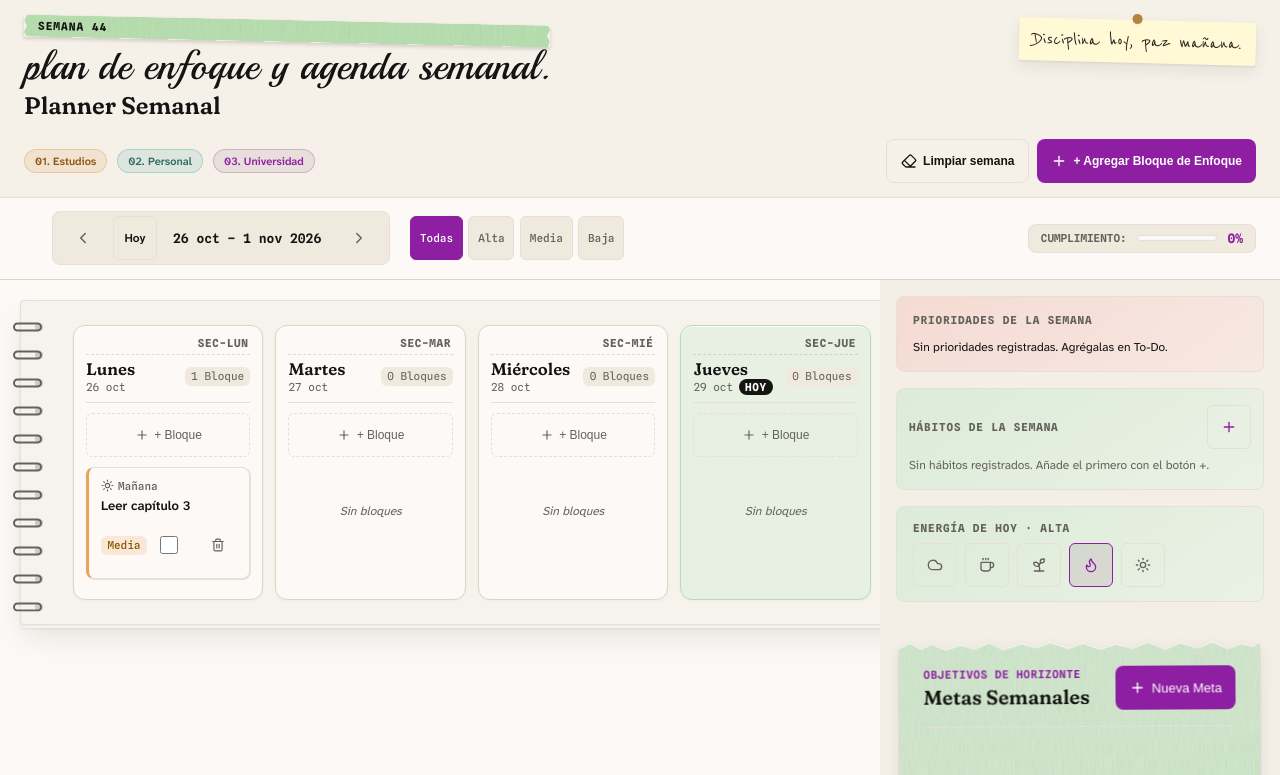
PlannerView integración semanal y metas › Limpiar semana › borra los bloques de la semana tras confirmar
Click the button "Limpiar semana" at point(958, 161), box [886,139,1029,183]
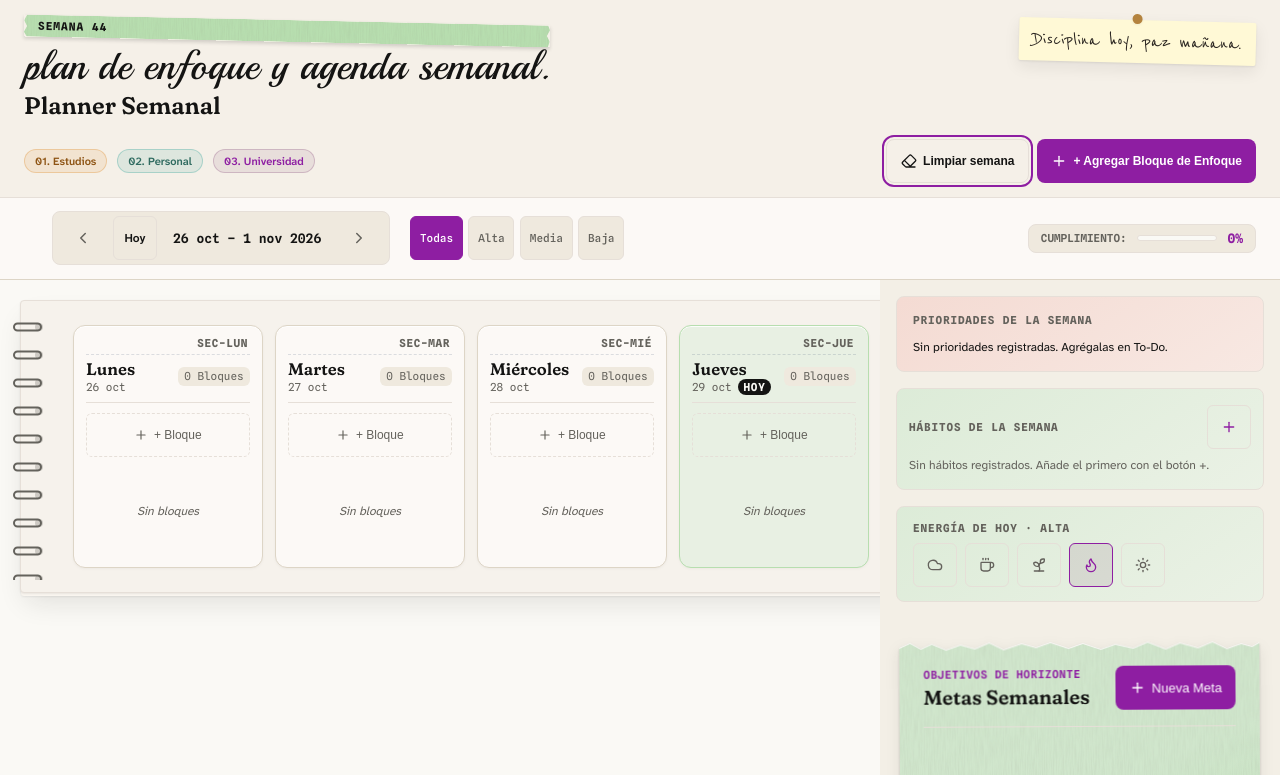
expect the text "Leer capítulo 3" is gone: met
